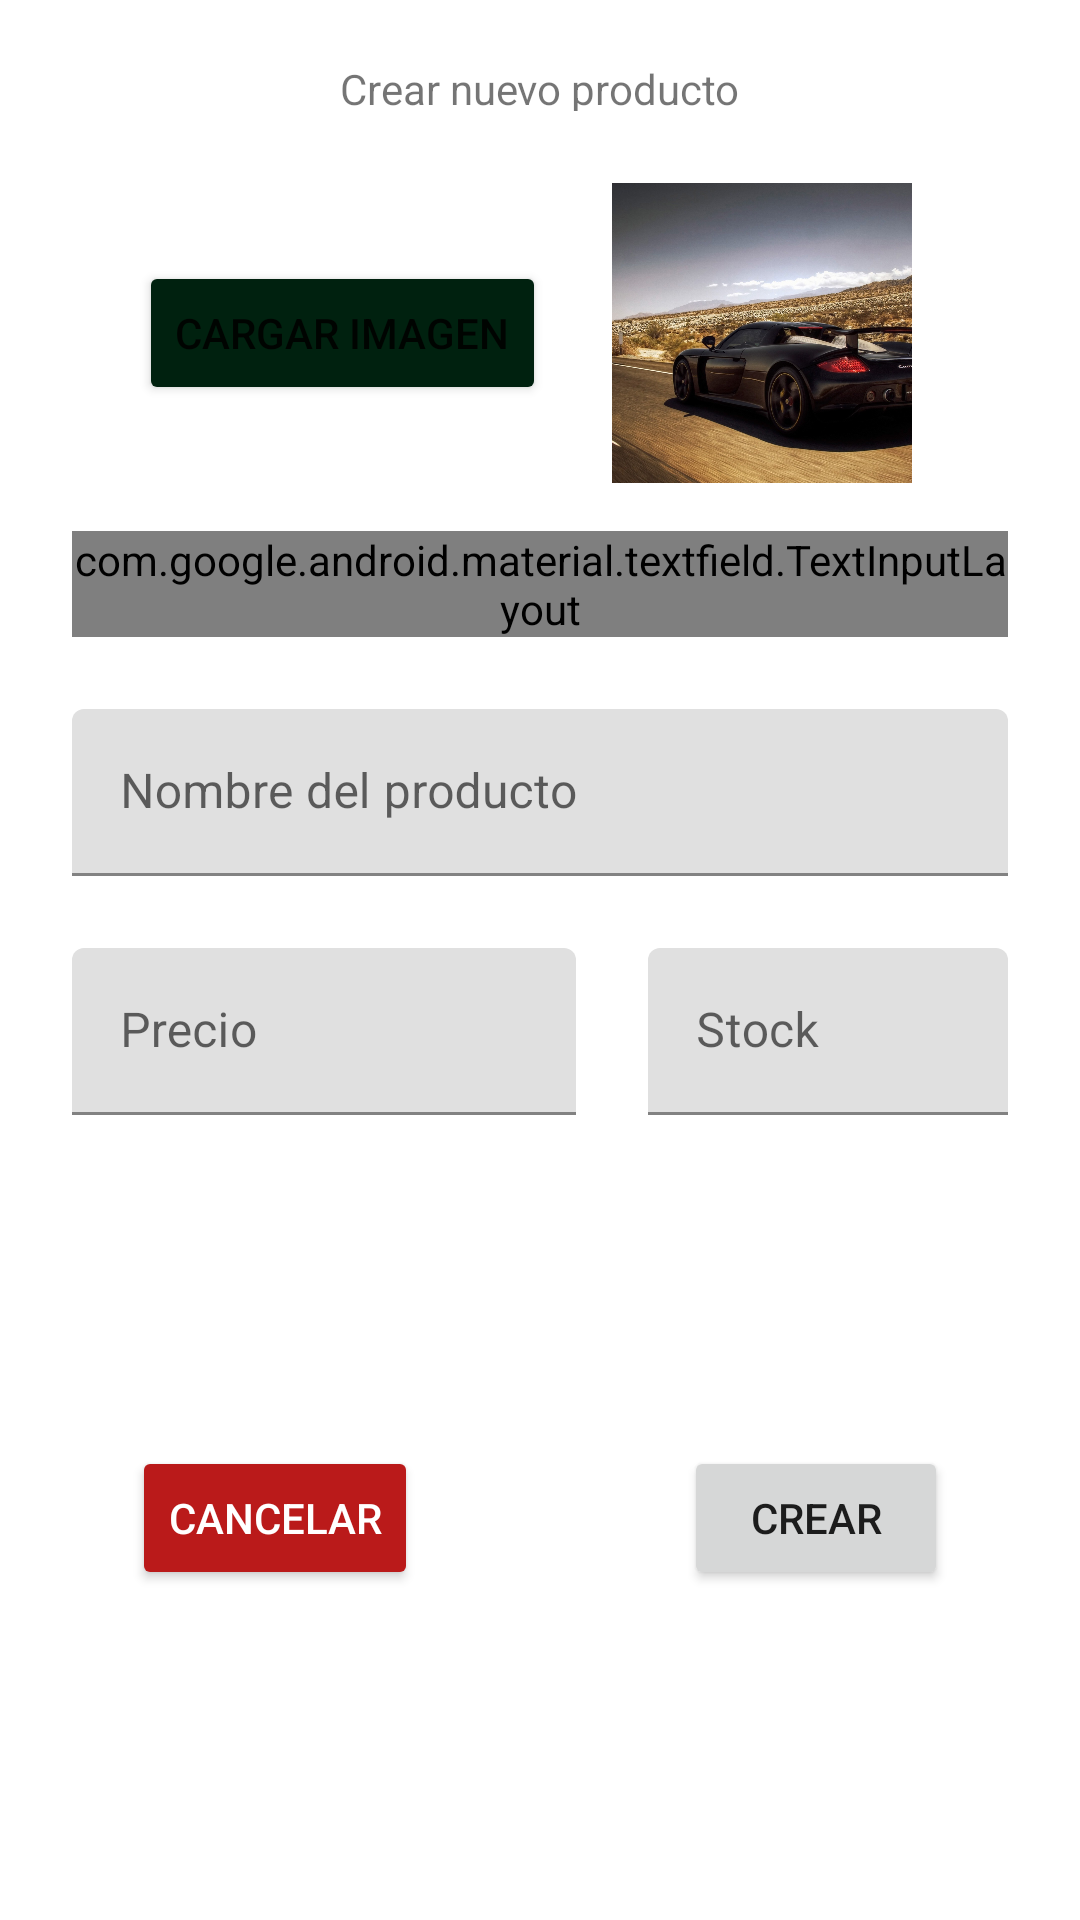

Screen size 1080*1920. Icon name, then its box in pixels as (x1, y1, x2, y2):
porschegt: (612, 183, 912, 483)
